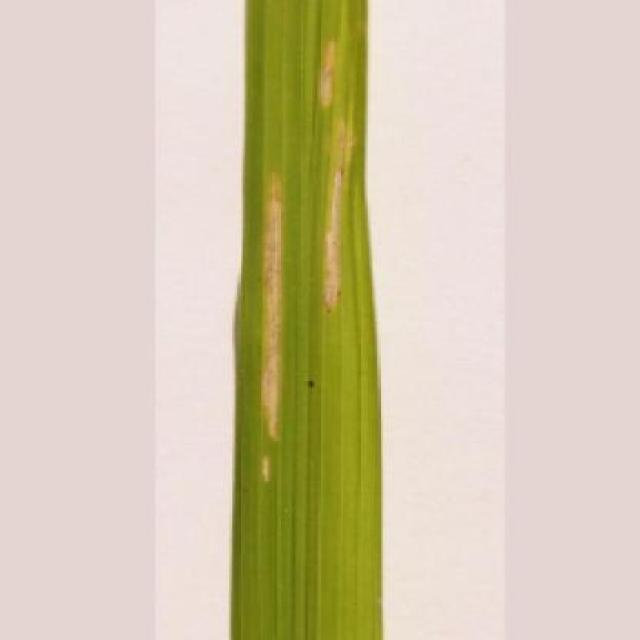Brown_Spot: (227, 0, 391, 640)
